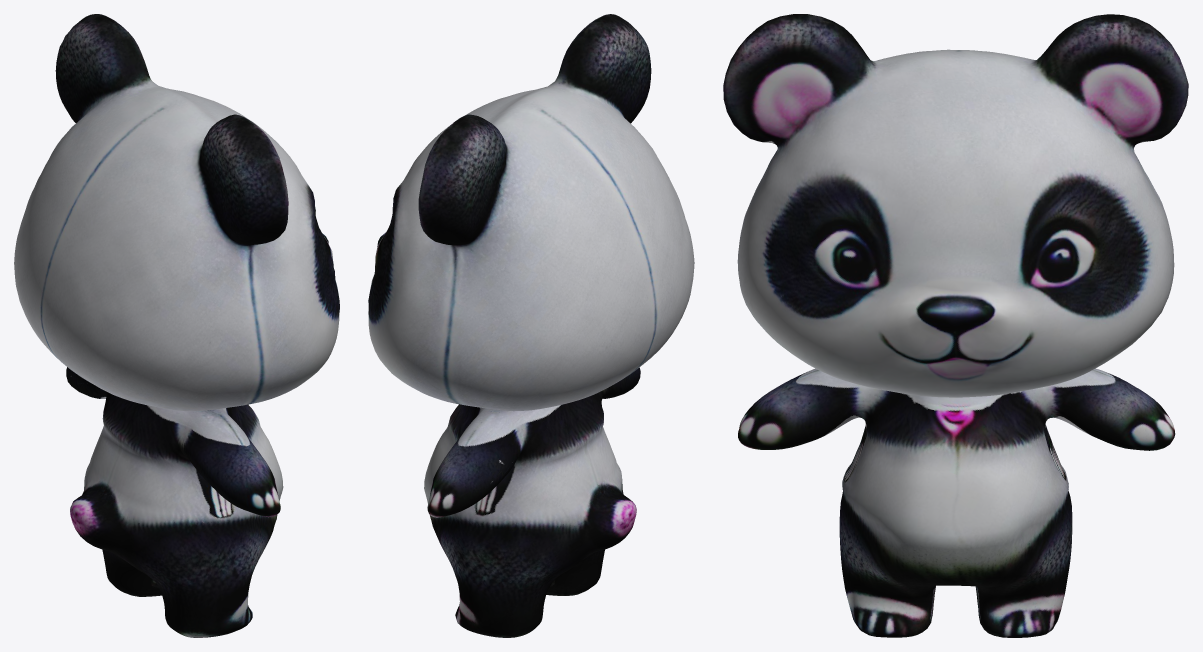
File: 5ece8886be6c_panda_chibi_min.fbx
The picture shows the model from 3 angles, left to right: view 1: azimuth 30°, elevation 25°; view 2: azimuth 150°, elevation 25°; view 3: azimuth 270°, elevation 25°; orthographic projection. The views are drawn at different scales.
Parts seen in each view (by area): view 1: mesh; view 2: mesh; view 3: mesh.
Part boxes in pixels (bbox=[...]): mesh: bbox=[14, 14, 339, 637]; mesh: bbox=[368, 14, 694, 637]; mesh: bbox=[723, 14, 1188, 637].
Size of the model in its own units: 52.67 by 99.94 by 69.29.
